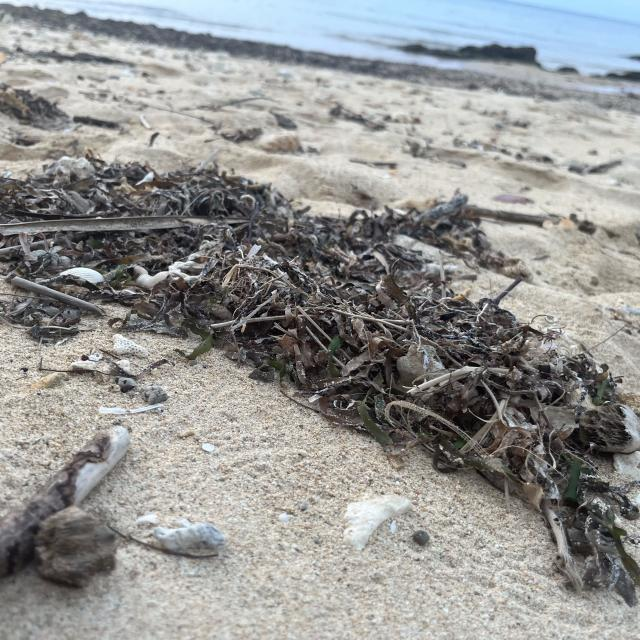rock: (36, 504, 125, 590)
seaweed: (2, 157, 640, 586)
